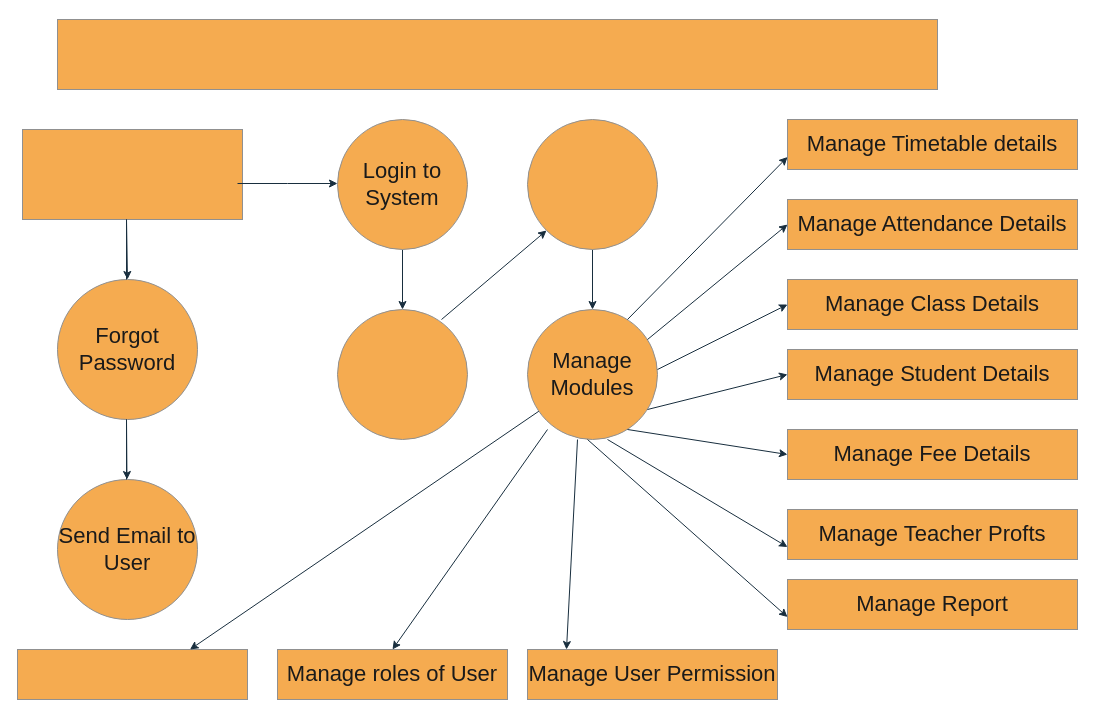
The diagram is 1095 pixels wide and 725 high, and some of its shapes have lost their labels. The shapes that lost their labels are listed below. From the top down, each one's centre as x and y in pixels, then its label:
(x=497, y=54): Student Information System
(x=132, y=174): Admin
(x=592, y=184): Check Roles of Access
(x=402, y=374): Check Credentials
(x=132, y=674): Manage System Admins
